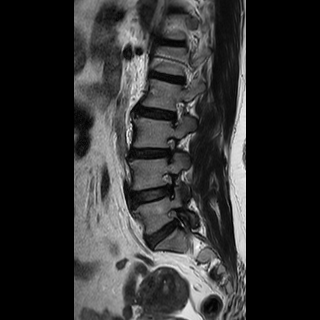LFS0: (166, 95, 187, 130)
LFS3: (159, 132, 182, 166)
